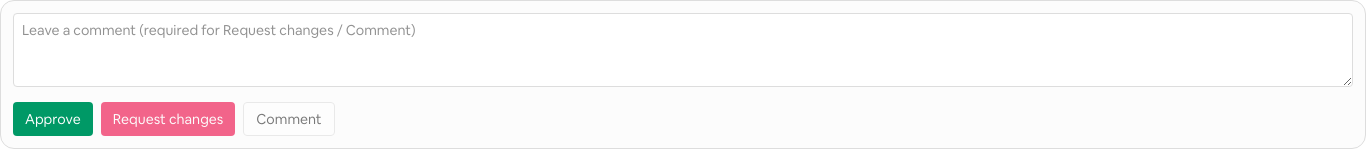
Test case: PrReviewActions › disables Request changes / Comment until a body is typed
This screenshot has width=1366, height=166.
Check: the button "Request changes" is disabled, box [101,102,235,136]
Check: the button "Comment" is disabled, box [243,102,335,136]
Type "lgtm with nits" into the text box named "review comment" at (683, 50), box [13,13,1353,87]
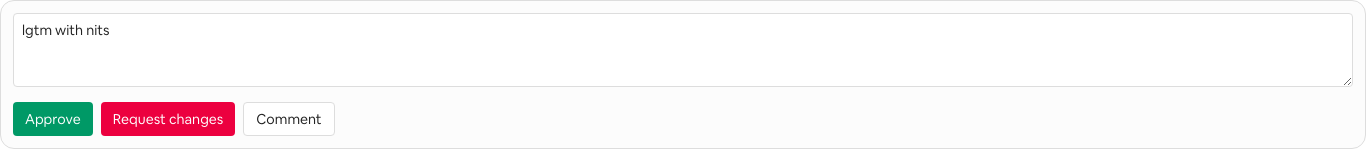
Check: the button "Request changes" is enabled, box [101,102,235,136]
Check: the button "Comment" is enabled, box [243,102,335,136]
